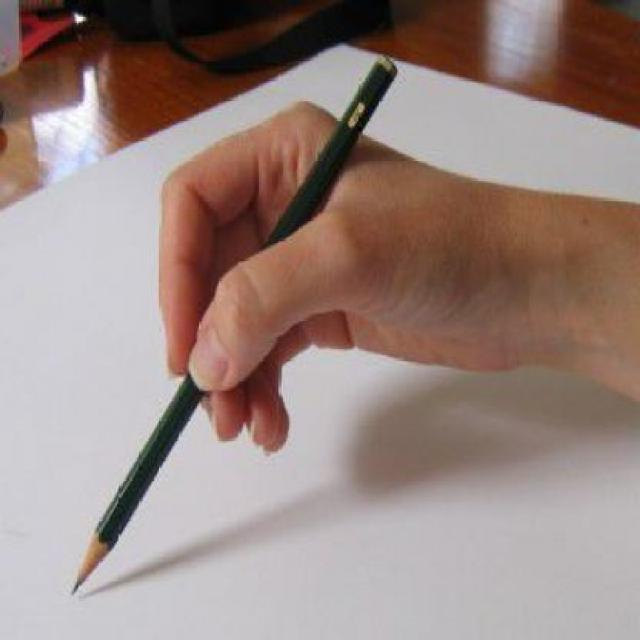Pencil: (62, 497, 126, 605)
